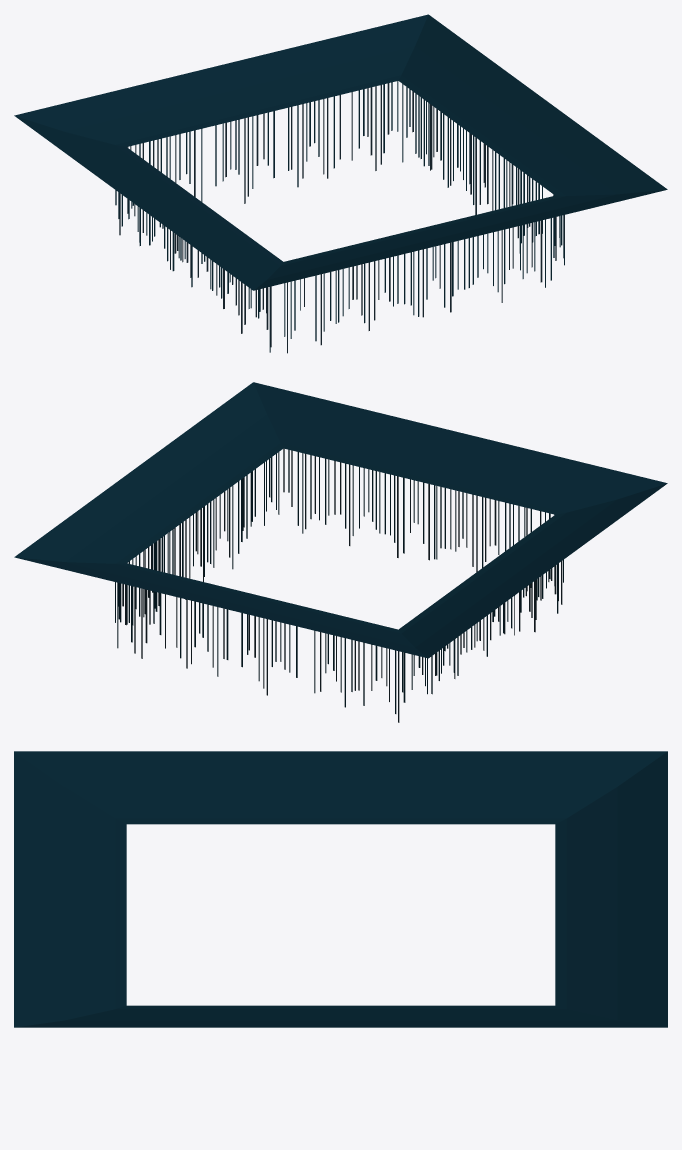
File: room_edge_8.glb
3 views of the same model, one above another, from view 1: azimuth 30°, elevation 25°; view 2: azimuth 150°, elevation 25°; view 3: azimuth 270°, elevation 25° (orthographic). The views are drawn at different scales.
Visible parts, largest first — view 1: edge_mist, edge_streaks_hang; view 2: edge_mist, edge_streaks_hang; view 3: edge_mist.
Part boxes in pixels (x1=…): edge_mist: x1=14, y1=14, x2=667, y2=290; edge_streaks_hang: x1=115, y1=81, x2=564, y2=353; edge_mist: x1=14, y1=382, x2=667, y2=658; edge_streaks_hang: x1=115, y1=448, x2=563, y2=722; edge_mist: x1=14, y1=751, x2=667, y2=1027.
Bounding box in the file's own units: 11.6 × 2.98 × 11.6.
